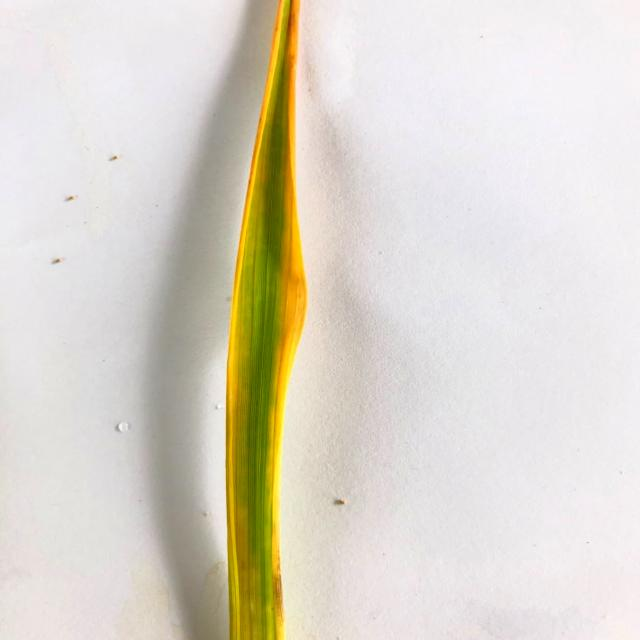tungro: (224, 0, 314, 640)
